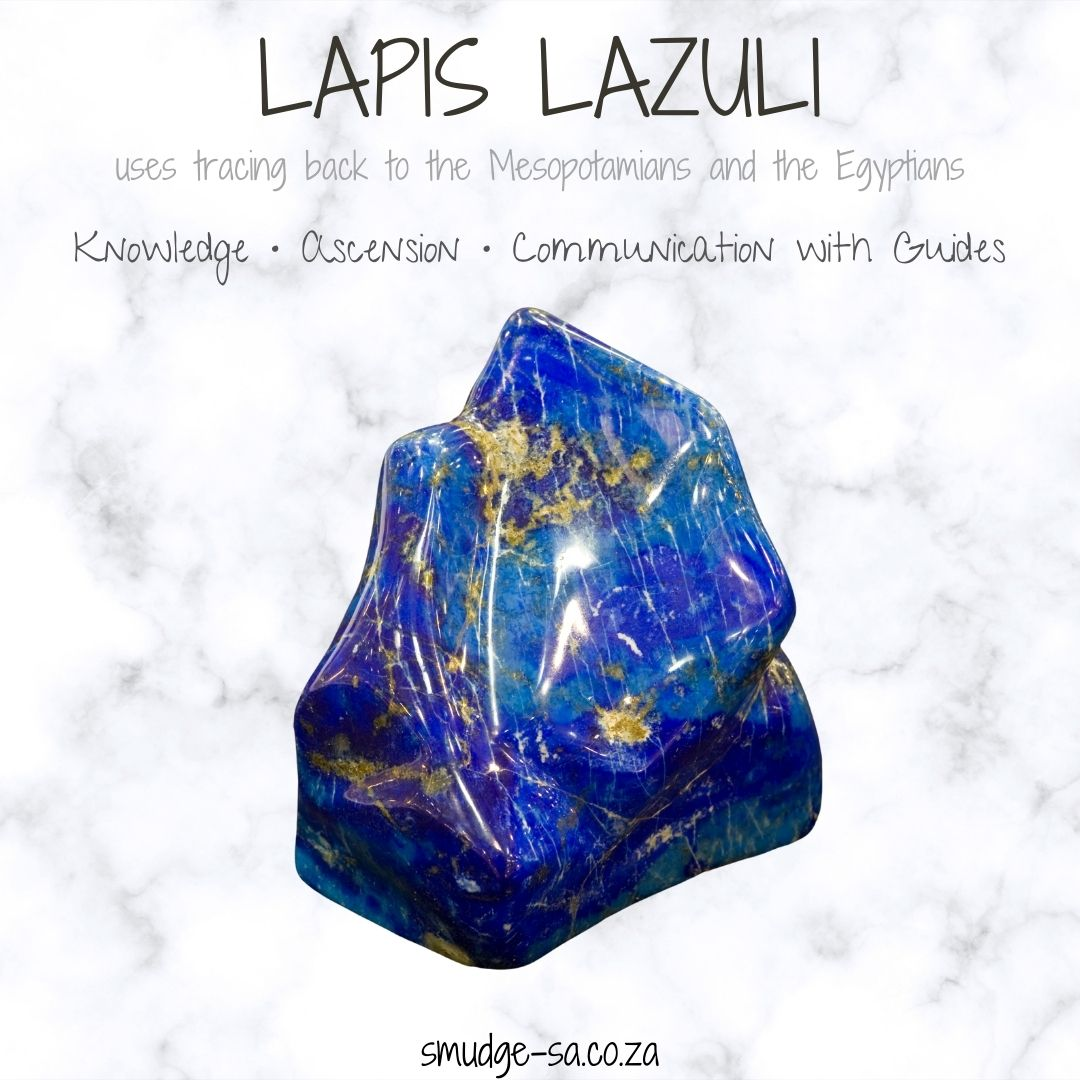Lapis_Lazuli: (282, 302, 830, 978)
